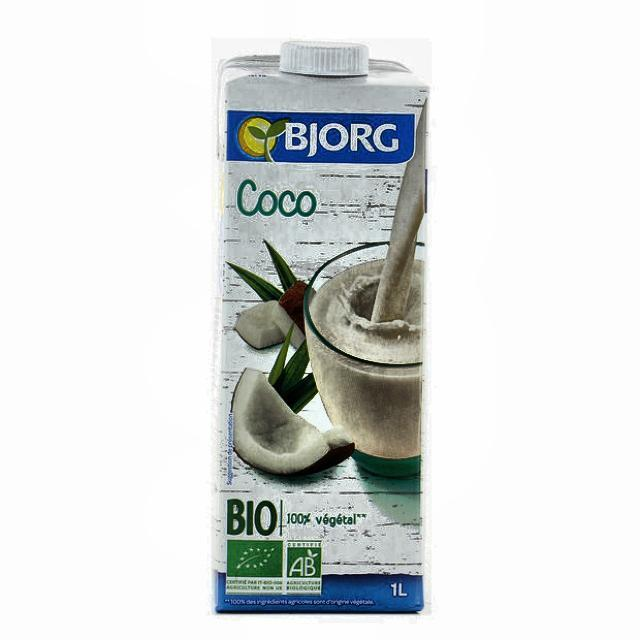cardboard: (213, 42, 428, 613)
